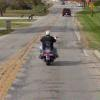Motorcycle: (33, 26, 72, 76)
